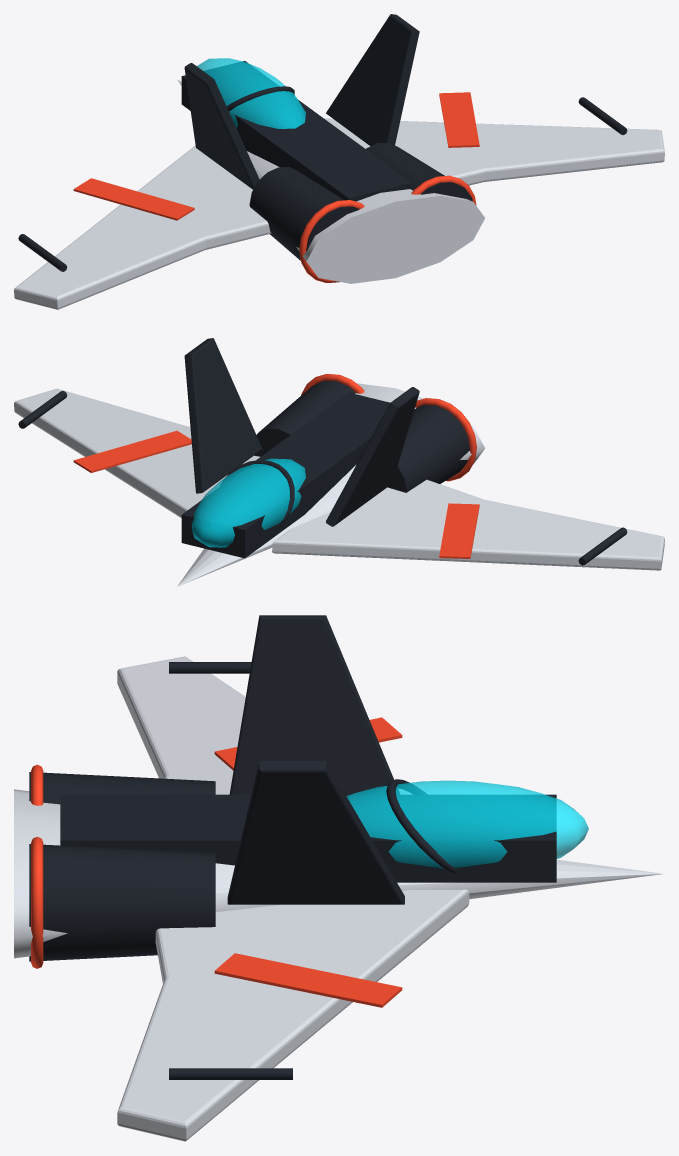
Rendered from spaceship.glb.
3 views of the same model, one above another, from view 1: azimuth 30°, elevation 25°; view 2: azimuth 150°, elevation 25°; view 3: azimuth 270°, elevation 25° (orthographic). The views are drawn at different scales.
Parts seen in each view (by area): view 1: Spaceship; view 2: Spaceship; view 3: Spaceship.
Part boxes in pixels (x1,y1,x2,y2): Spaceship: (14,14,664,309); Spaceship: (14,338,664,586); Spaceship: (14,615,664,1141).
Bounding box in the file's own units: 7.17 × 1.72 × 4.2.
